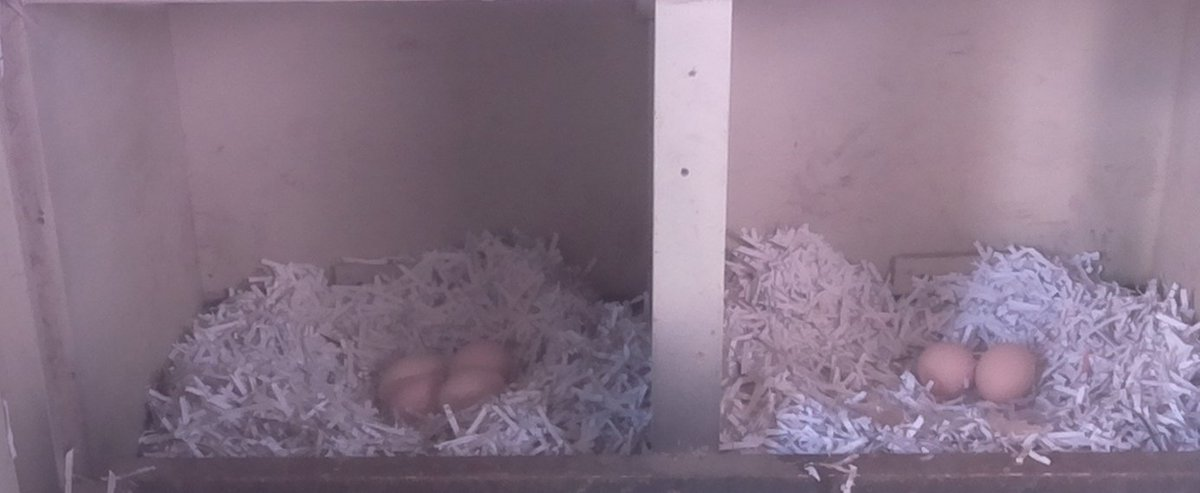egg: (371, 349, 448, 407), (971, 342, 1042, 402), (911, 338, 977, 399), (439, 363, 510, 412), (443, 338, 518, 377), (387, 369, 442, 420)
